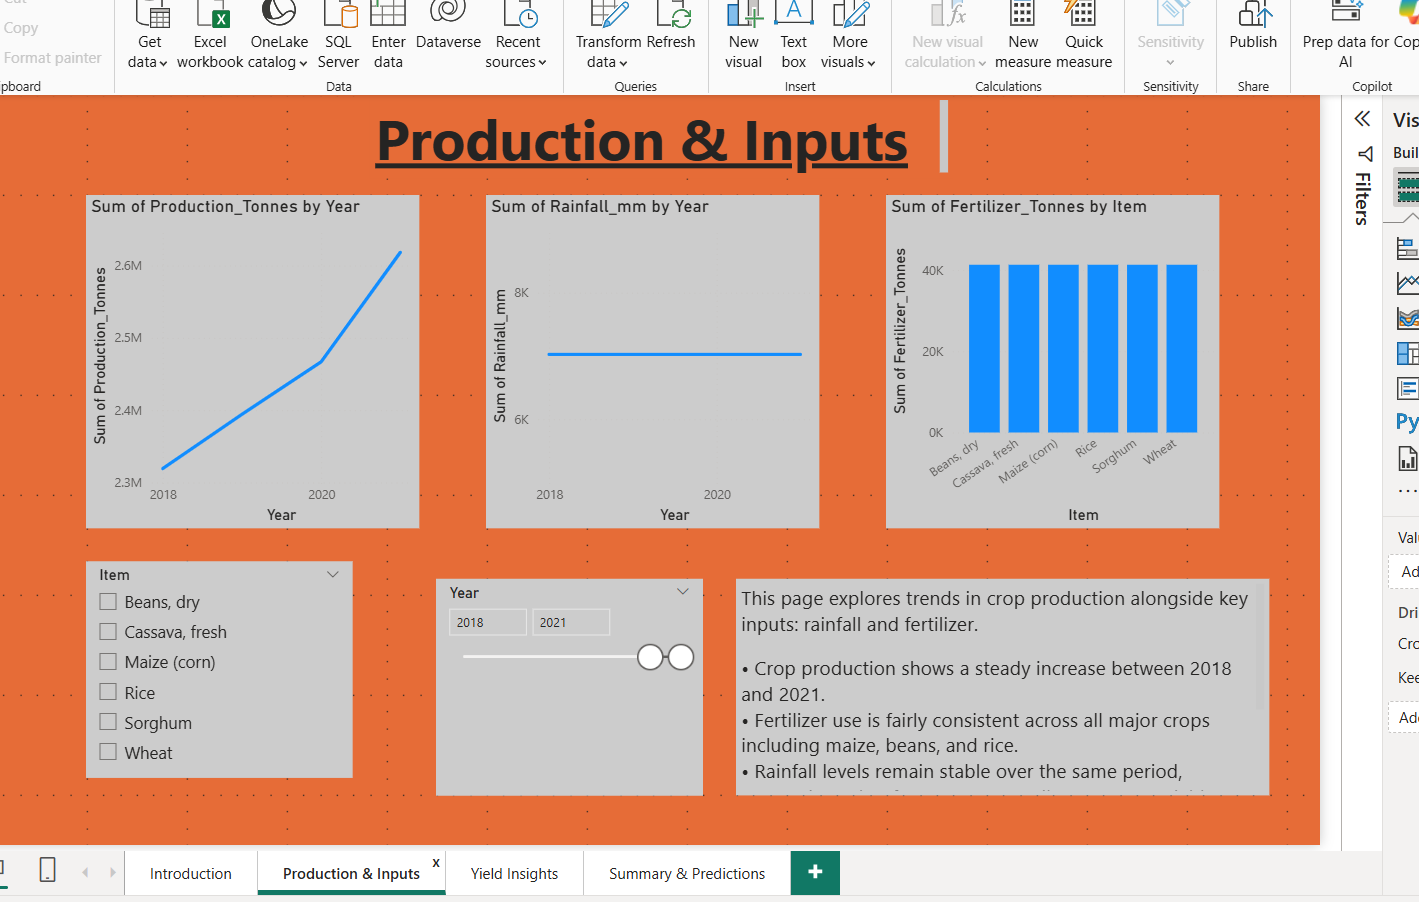

The page's visual inventory and layout, read from the dashboard file:
{"tool":"powerbi","page":{"name":"Production & Inputs","canvas":[1280,720],"ordinal":1},"visuals":[{"type":"slicer","fields":{"Values":["cleaned_agriculture_data_fixed.Item"]},"box":[96,448,256,208],"z":0},{"type":"slicer","fields":{"Values":["cleaned_agriculture_data_fixed.Year"]},"box":[432,464,256,208],"z":1000},{"type":"lineChart","fields":{"Category":["cleaned_agriculture_data_fixed.Year"],"Y":["Sum(cleaned_agriculture_data_fixed.Production_Tonnes)"]},"box":[96,96,320,320],"z":2000},{"type":"lineChart","fields":{"Y":["Sum(cleaned_agriculture_data_fixed.Rainfall_mm)"],"Category":["cleaned_agriculture_data_fixed.Year"]},"box":[480,96,320,320],"z":3000},{"type":"clusteredColumnChart","fields":{"Y":["Sum(cleaned_agriculture_data_fixed.Fertilizer_Tonnes)"],"Category":["cleaned_agriculture_data_fixed.Item"]},"box":[864,96,320,320],"z":4000},{"type":"textbox","box":[368,0,560,80],"z":5000},{"type":"textbox","box":[720,464,512,208],"z":6000}]}

Visuals, with their boxes on the page's 1280x720 design canvas (x1, y1, x2, y2). These are canvas units, not pixel positions in the 1419x902 screenshot, which may show the page scaled, cropped or inside an application window:
slicer - cleaned_agriculture_data_fixed.Item: detection(96, 448, 352, 656)
slicer - cleaned_agriculture_data_fixed.Year: detection(432, 464, 688, 672)
lineChart - cleaned_agriculture_data_fixed.Year x Sum(cleaned_agriculture_data_fixed.Production_Tonnes): detection(96, 96, 416, 416)
lineChart - Sum(cleaned_agriculture_data_fixed.Rainfall_mm) x cleaned_agriculture_data_fixed.Year: detection(480, 96, 800, 416)
clusteredColumnChart - Sum(cleaned_agriculture_data_fixed.Fertilizer_Tonnes) x cleaned_agriculture_data_fixed.Item: detection(864, 96, 1184, 416)
textbox: detection(368, 0, 928, 80)
textbox: detection(720, 464, 1232, 672)
